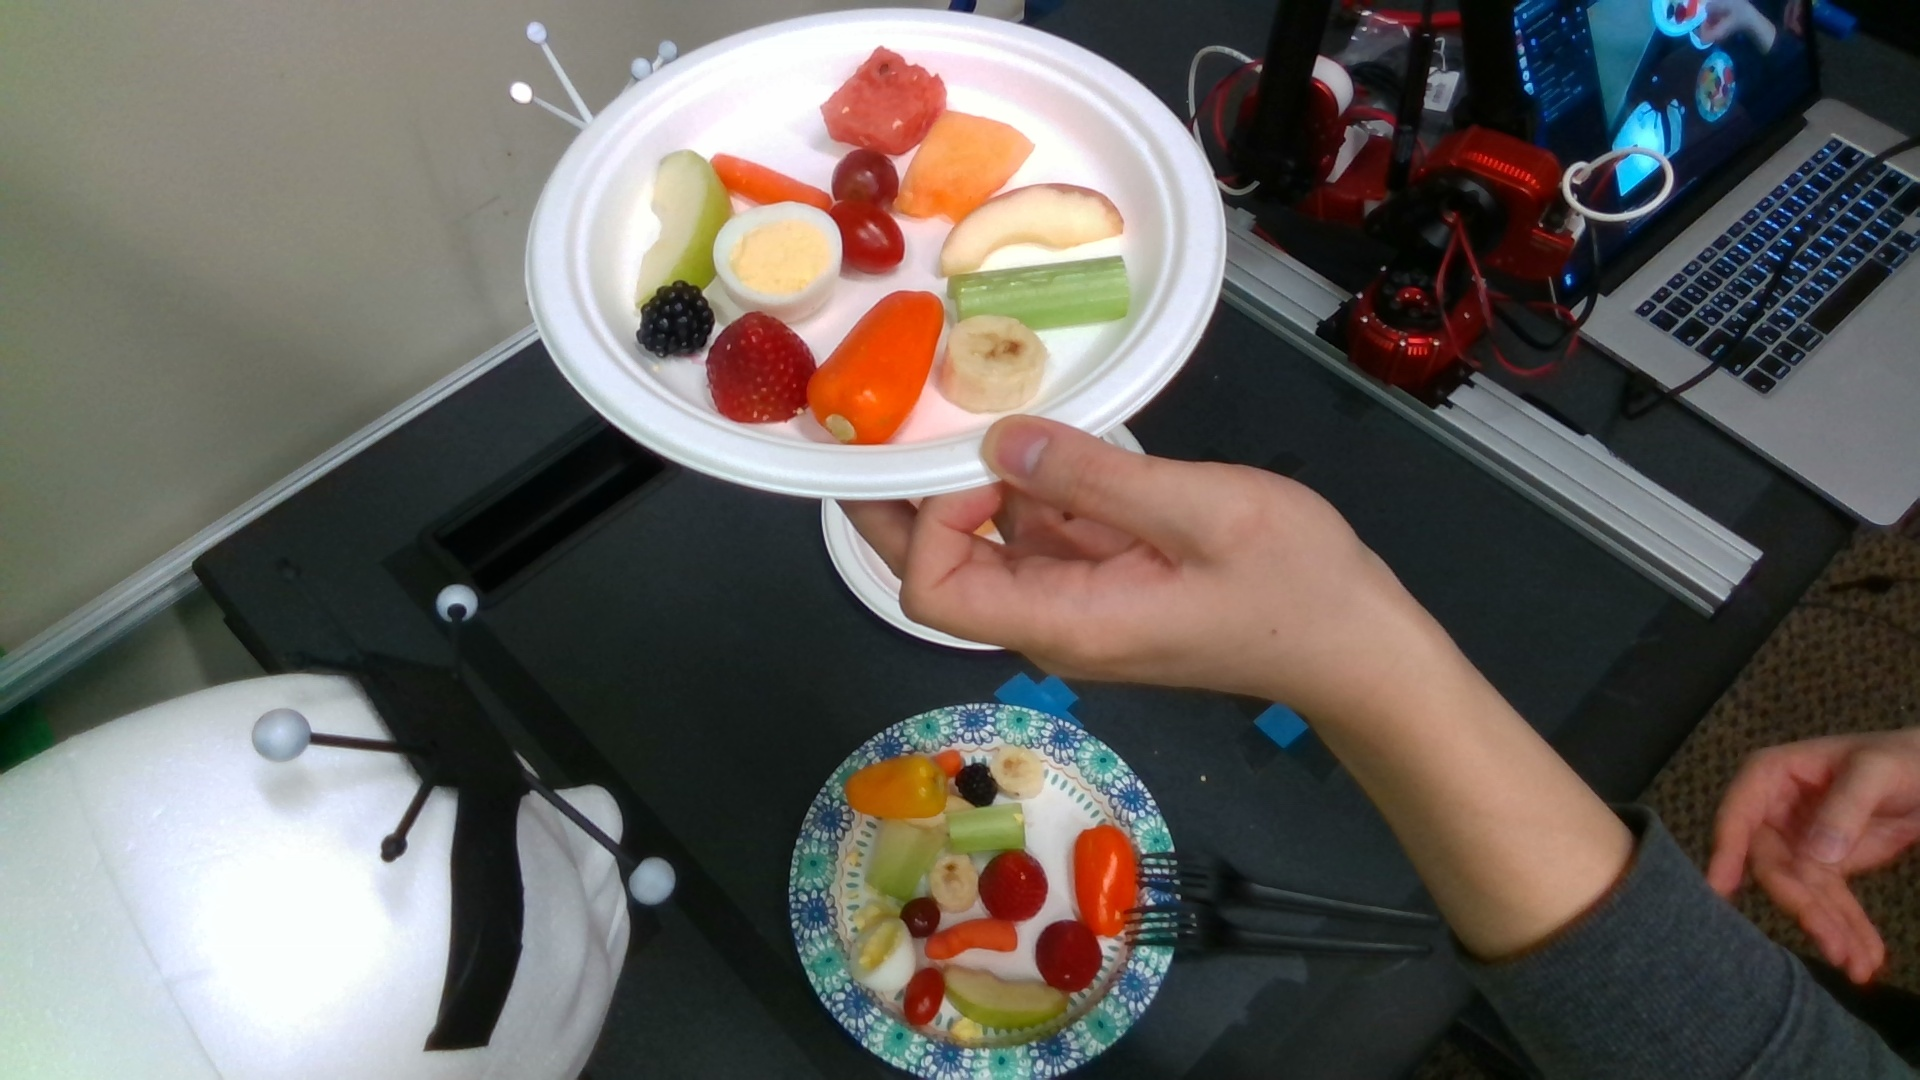apple: (942, 185, 1124, 274), (636, 150, 735, 306), (942, 965, 1069, 1025)
banana: (943, 315, 1046, 411), (930, 853, 977, 913), (992, 749, 1043, 798)
bell pepper: (806, 291, 944, 443), (1073, 824, 1135, 938), (845, 757, 945, 816)
blackberry: (642, 281, 713, 357), (957, 764, 997, 807)
cantalope: (897, 111, 1033, 222)
carrot: (711, 154, 832, 212), (927, 919, 1015, 959)
celery: (948, 256, 1130, 330), (870, 822, 943, 898), (949, 803, 1026, 851)
cherry tomato: (833, 200, 905, 273), (907, 969, 944, 1025)
egg: (715, 200, 843, 319), (852, 918, 913, 989)
grape: (831, 150, 899, 208), (901, 898, 939, 936)
melon: (823, 47, 947, 153)
plate: (524, 9, 1228, 500), (790, 705, 1182, 1080)
strawberry: (707, 313, 816, 422), (981, 853, 1047, 920), (1038, 922, 1100, 990)
